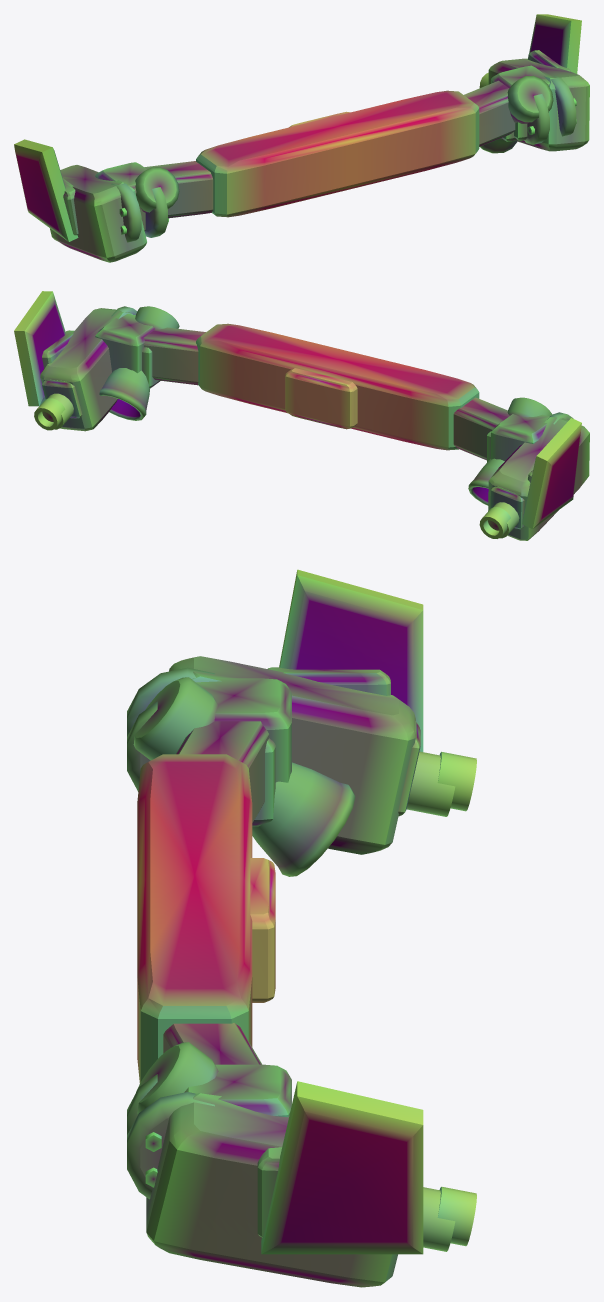
The model's file is llm_gen_waist_ordnance_056_0a15ac.glb.
3 renders of one model, top to bottom at view 1: azimuth 30°, elevation 25°; view 2: azimuth 150°, elevation 25°; view 3: azimuth 270°, elevation 25°, orthographic. The views are drawn at different scales.
Parts seen in each view (by area): view 1: adapter_waist_rear_yoke_dark, cannon_casing_1_adapter_dark_l, rear_capacitor_fin_6_barrel_metal_l, cannon_casing_1_adapter_dark_r, rear_capacitor_fin_6_barrel_metal_r, adapter_waist_arm_l, adapter_waist_arm_r, servo_0_servo_accent_l, servo_0_servo_accent_r, addon_waist_bell_8_vernier_bell_gimbal_collar_dark_r, addon_waist_bell_8_vernier_bell_gimbal_collar_dark_l, adapter_waist_swivel_r (+4 smaller); view 2: adapter_waist_rear_yoke_dark, cannon_casing_1_adapter_dark_r, rear_capacitor_fin_6_barrel_metal_l, adapter_waist_center_latch_gold, cannon_casing_1_adapter_dark_l, rear_capacitor_fin_6_barrel_metal_r, adapter_waist_arm_r, adapter_waist_arm_l, adapter_waist_swivel_r, addon_waist_bell_8_vernier_bell_vernier_r, adapter_waist_swivel_l, addon_waist_bell_8_vernier_bell_vernier_l (+10 smaller); view 3: adapter_waist_rear_yoke_dark, rear_capacitor_fin_6_barrel_metal_r, cannon_casing_1_adapter_dark_r, cannon_casing_1_adapter_dark_l, rear_capacitor_fin_6_barrel_metal_l, addon_waist_bell_8_vernier_bell_vernier_l, adapter_waist_swivel_l, addon_waist_bell_8_vernier_bell_gimbal_collar_dark_l, adapter_waist_swivel_r, adapter_waist_arm_l, adapter_waist_center_latch_gold, servo_0_servo_accent_r (+10 smaller).
Boxes of the visible parts, left/top/right/bottom form: adapter_waist_rear_yoke_dark: left=196, top=90, right=479, bottom=217; cannon_casing_1_adapter_dark_l: left=50, top=165, right=146, bottom=262; rear_capacitor_fin_6_barrel_metal_l: left=14, top=139, right=78, bottom=241; cannon_casing_1_adapter_dark_r: left=488, top=58, right=589, bottom=151; rear_capacitor_fin_6_barrel_metal_r: left=529, top=14, right=581, bottom=73; adapter_waist_arm_l: left=144, top=161, right=213, bottom=218; adapter_waist_arm_r: left=464, top=80, right=515, bottom=146; servo_0_servo_accent_l: left=111, top=183, right=167, bottom=242; servo_0_servo_accent_r: left=524, top=76, right=576, bottom=144; addon_waist_bell_8_vernier_bell_gimbal_collar_dark_r: left=507, top=75, right=553, bottom=123; addon_waist_bell_8_vernier_bell_gimbal_collar_dark_l: left=135, top=167, right=179, bottom=212; adapter_waist_swivel_r: left=491, top=65, right=549, bottom=140; adapter_waist_rear_yoke_dark: left=196, top=323, right=479, bottom=450; cannon_casing_1_adapter_dark_r: left=40, top=308, right=132, bottom=431; rear_capacitor_fin_6_barrel_metal_l: left=522, top=418, right=581, bottom=528; adapter_waist_center_latch_gold: left=285, top=368, right=357, bottom=429; cannon_casing_1_adapter_dark_l: left=488, top=416, right=589, bottom=540; rear_capacitor_fin_6_barrel_metal_r: left=14, top=291, right=65, bottom=406; adapter_waist_arm_r: left=144, top=327, right=205, bottom=385; adapter_waist_arm_l: left=453, top=397, right=509, bottom=460; adapter_waist_swivel_r: left=95, top=313, right=154, bottom=373; addon_waist_bell_8_vernier_bell_vernier_r: left=99, top=368, right=150, bottom=420; adapter_waist_swivel_l: left=491, top=414, right=549, bottom=461; addon_waist_bell_8_vernier_bell_vernier_l: left=468, top=458, right=504, bottom=505; adapter_waist_rear_yoke_dark: left=137, top=754, right=252, bottom=1082; rear_capacitor_fin_6_barrel_metal_r: left=261, top=1081, right=423, bottom=1254; cannon_casing_1_adapter_dark_r: left=146, top=1093, right=397, bottom=1287; cannon_casing_1_adapter_dark_l: left=169, top=656, right=415, bottom=854; rear_capacitor_fin_6_barrel_metal_l: left=279, top=569, right=423, bottom=751; addon_waist_bell_8_vernier_bell_vernier_l: left=252, top=762, right=355, bottom=876; adapter_waist_swivel_l: left=196, top=678, right=291, bottom=782; addon_waist_bell_8_vernier_bell_gimbal_collar_dark_l: left=133, top=677, right=218, bottom=760; adapter_waist_swivel_r: left=184, top=1064, right=291, bottom=1117; adapter_waist_arm_l: left=176, top=721, right=269, bottom=822; adapter_waist_center_latch_gold: left=250, top=858, right=275, bottom=1002; servo_0_servo_accent_r: left=127, top=1074, right=214, bottom=1199.
Size of the model in its own units: 69.53 by 14.29 by 19.46.
